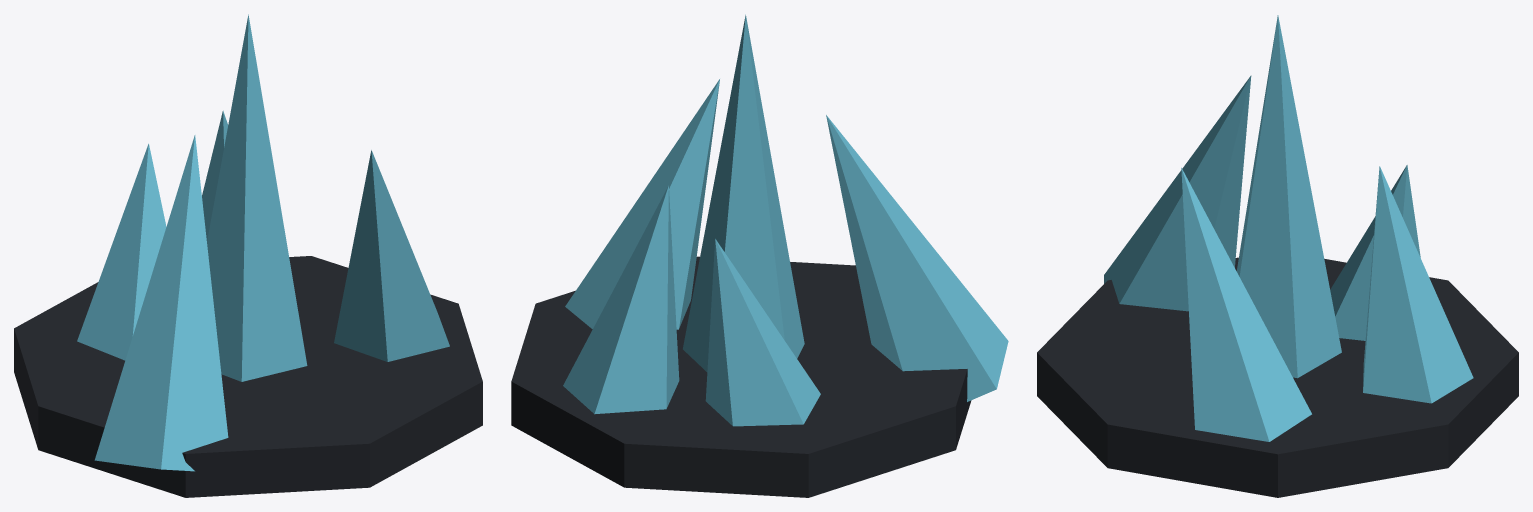
File: glitterstim.glb
3 renders of one model, left to right at view 1: azimuth 30°, elevation 25°; view 2: azimuth 150°, elevation 25°; view 3: azimuth 270°, elevation 25°, orthographic.
Parts seen in each view (by area): view 1: m; view 2: m; view 3: m.
Boxes of the visible parts, x1=… form: m: x1=14, y1=14, x2=482, y2=497; m: x1=511, y1=14, x2=1008, y2=497; m: x1=1037, y1=15, x2=1518, y2=497.
Size of the model in its own units: 0.0882 by 0.08 by 0.0882.
